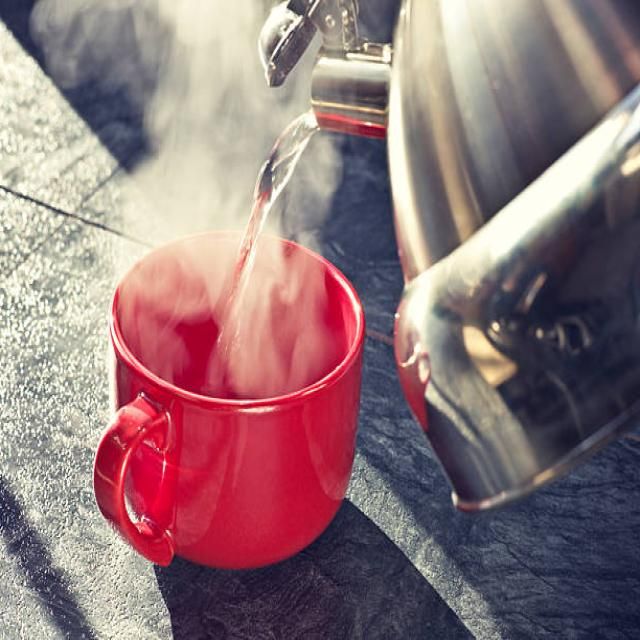Red_cup: (94, 233, 362, 569)
